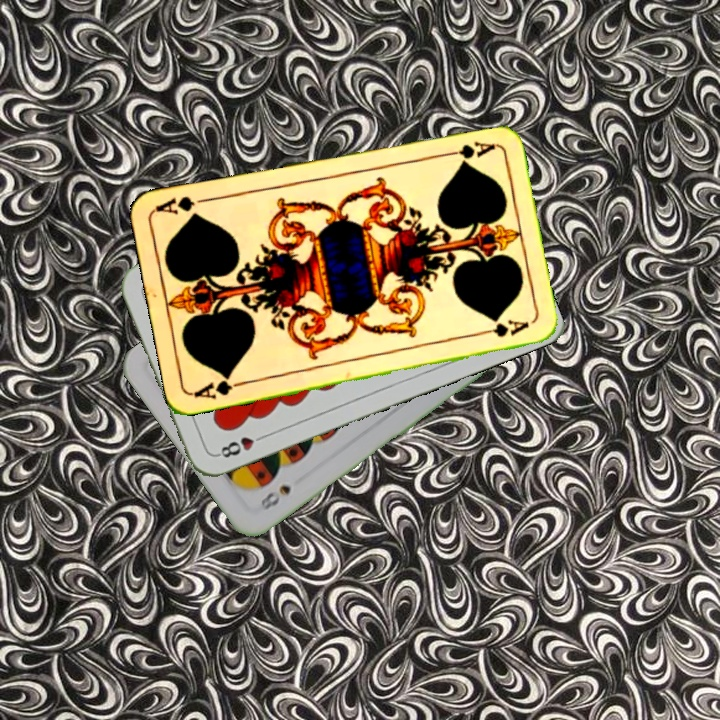GA: (190, 371, 249, 402), (439, 137, 498, 164)
H8: (213, 430, 269, 461)
S8: (256, 480, 294, 513)
